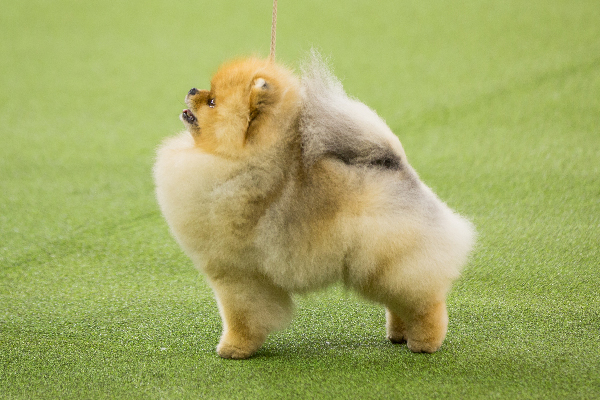pomeranian: (148, 49, 476, 366)
